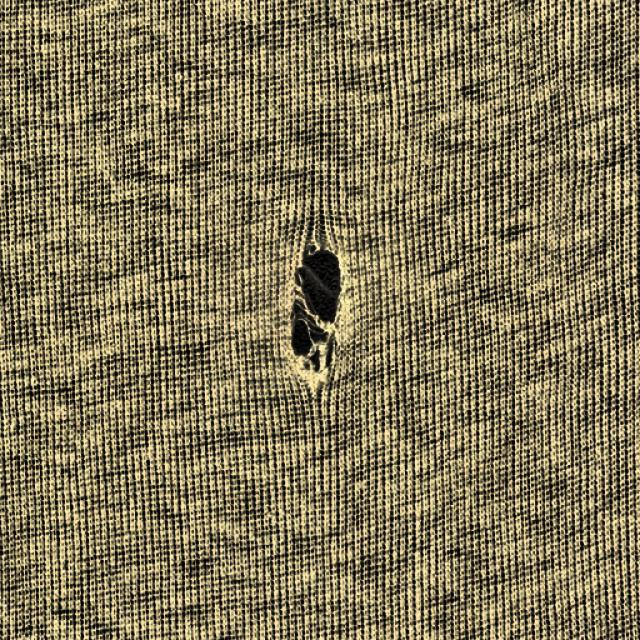Hole: (274, 212, 362, 406)
